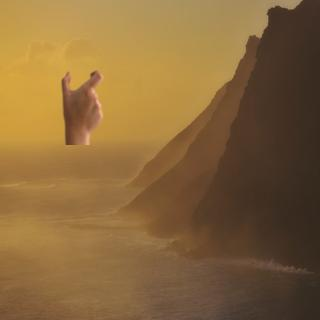Irritated: (54, 68, 110, 141)
